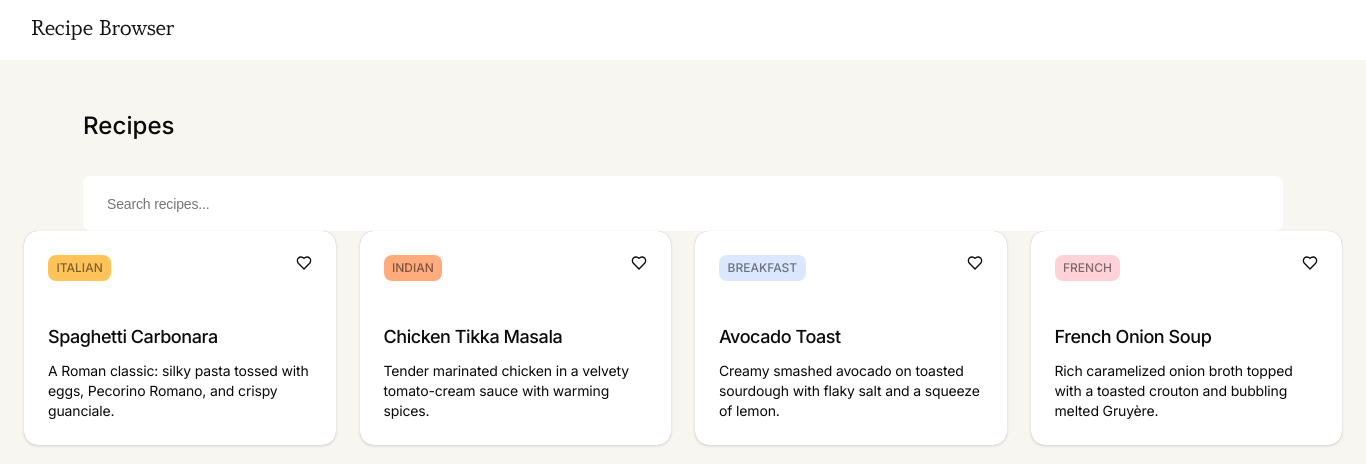
Test: Lesson 02 — favorite toggle behavior › clicking a favorite button adds the recipe to favorites
Click the button named "add to favorites" in the row of "Italian" at (304, 263), box [296, 255, 312, 271]
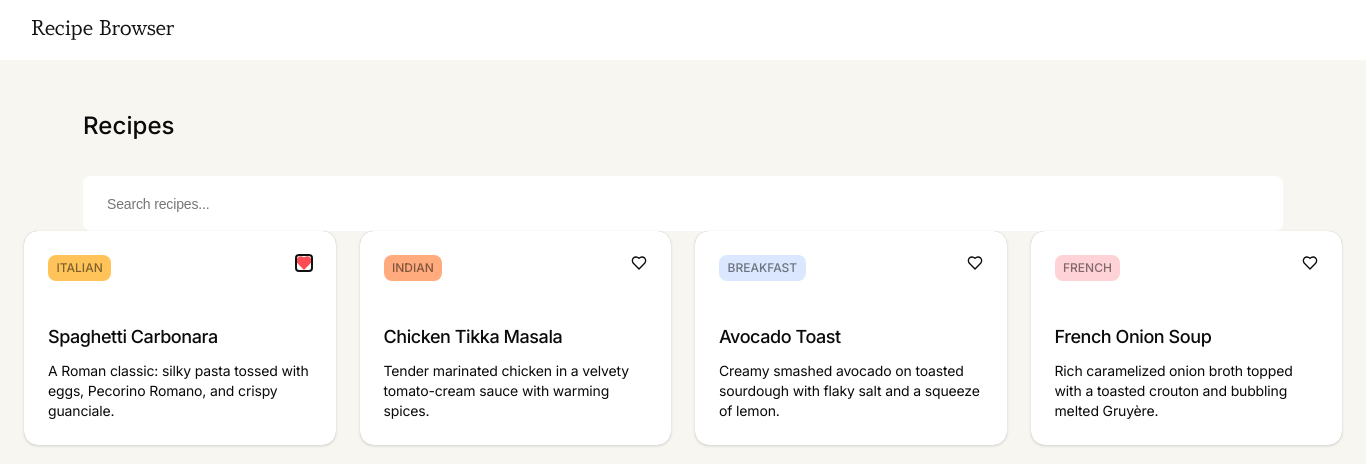
expect the button named "remove from favorites" is shown: met, box [296, 255, 312, 271]
